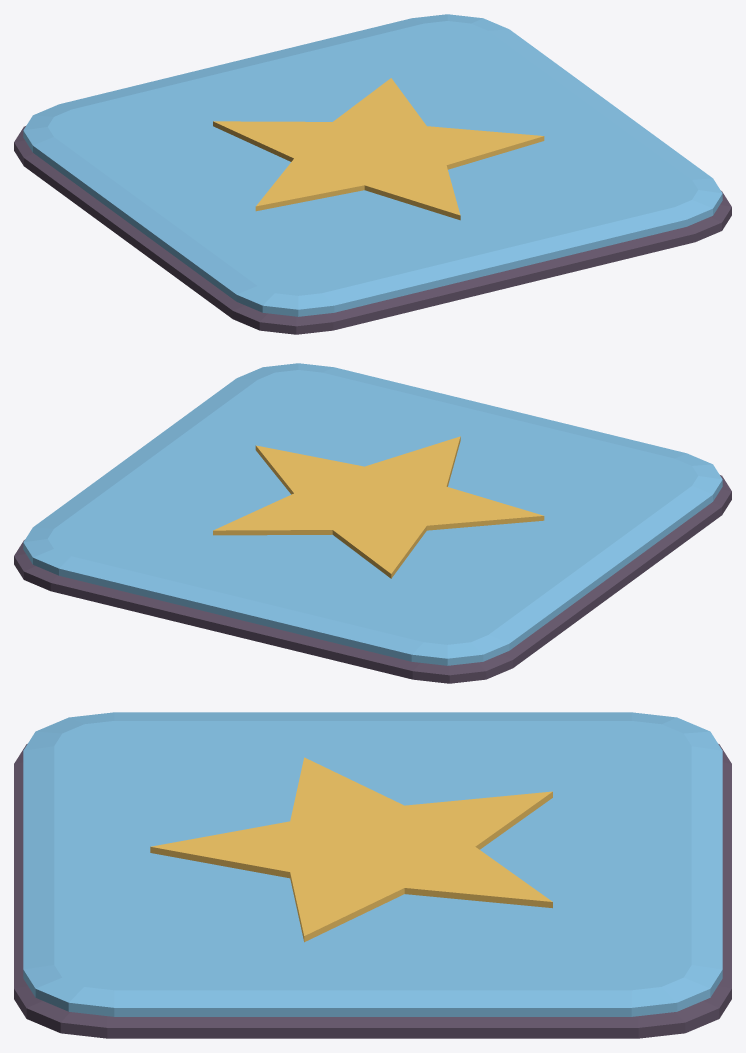
Rendered from tile_minigame.glb.
3 views of the same model, one above another, from view 1: azimuth 30°, elevation 25°; view 2: azimuth 150°, elevation 25°; view 3: azimuth 270°, elevation 25° (orthographic). The views are drawn at different scales.
Visible parts, largest first — view 1: model; view 2: model; view 3: model.
Part boxes in pixels (box(x1,y1,x2,y2)): model: box(14, 14, 731, 334); model: box(14, 363, 731, 683); model: box(14, 712, 731, 1038).
Size of the model in its own units: 2 by 0.14 by 2.
